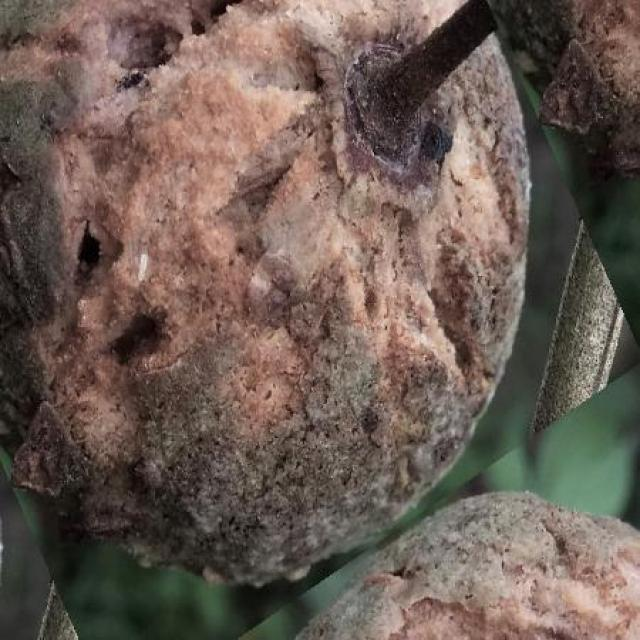Phytopthora: (0, 0, 530, 586), (301, 495, 640, 640), (492, 0, 640, 172)
